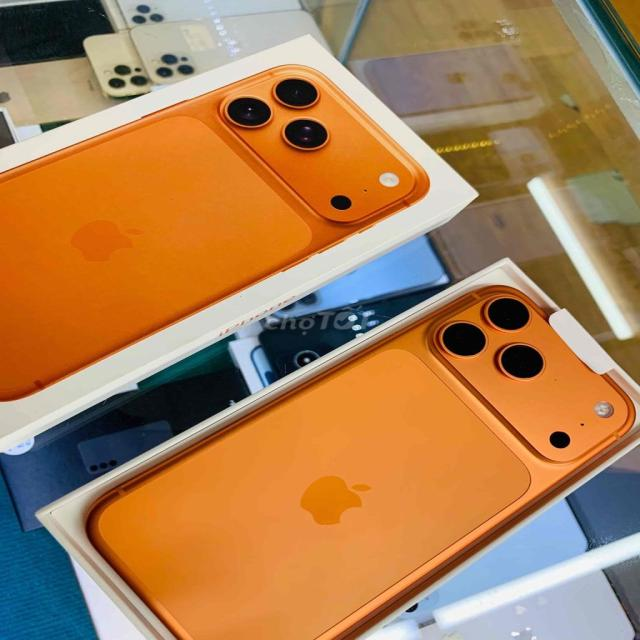gen_17: (89, 279, 639, 639)
